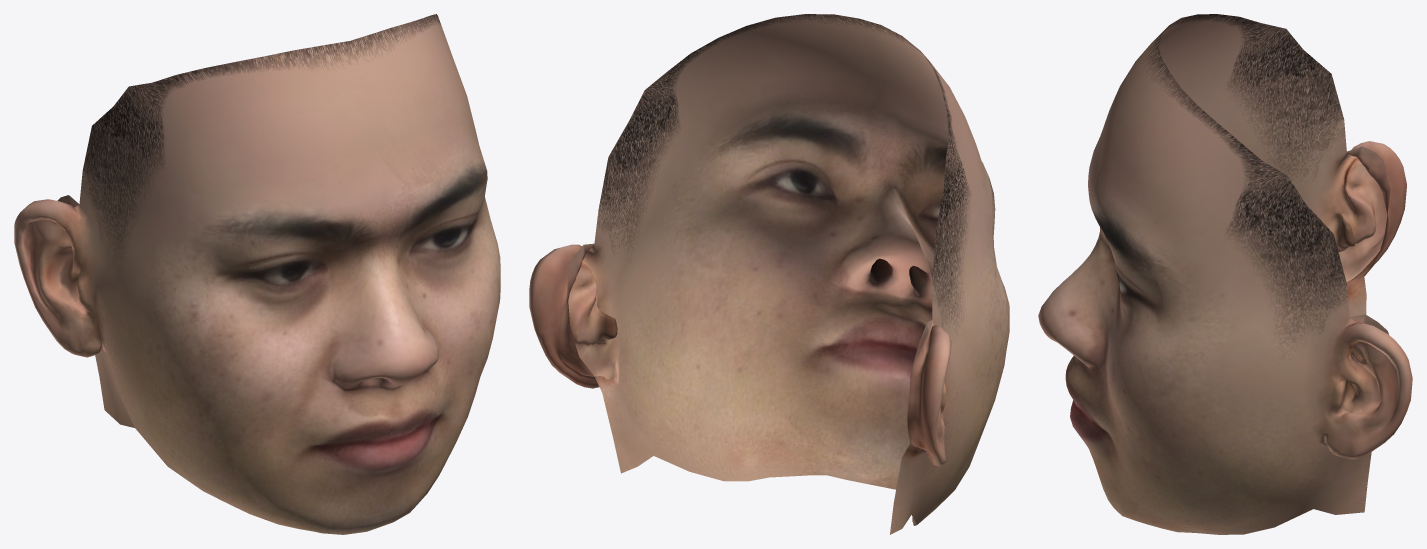
File: Dolin_face.fbx
The picture shows the model from 3 angles, left to right: view 1: azimuth 30°, elevation 25°; view 2: azimuth 150°, elevation 25°; view 3: azimuth 270°, elevation 25°; orthographic projection. The views are drawn at different scales.
Visible parts, largest first — view 1: avaturn_body.001; view 2: avaturn_body.001; view 3: avaturn_body.001.
Boxes of the visible parts, box(x1,y1,x2,y2) form: avaturn_body.001: box(14, 14, 500, 534); avaturn_body.001: box(529, 14, 1009, 534); avaturn_body.001: box(1038, 14, 1412, 534).
Size of the model in its own units: 18.78 by 20.64 by 15.12.
1 material, 1 textured.
